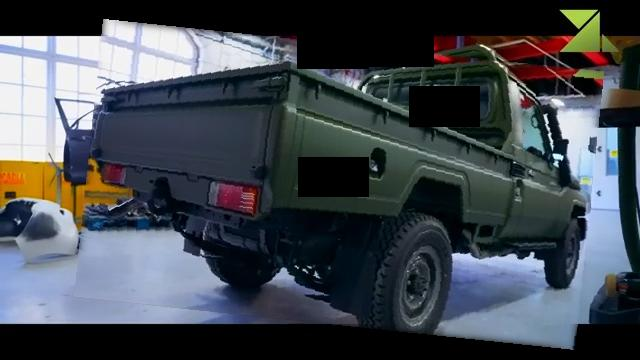MIL_HMMWV: (80, 32, 598, 337)
